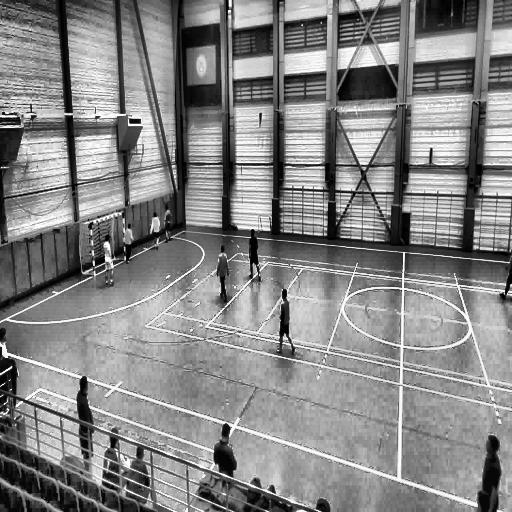player: (77, 377, 95, 475), (274, 285, 296, 354), (217, 244, 230, 304), (104, 234, 116, 284), (249, 229, 260, 281), (124, 224, 134, 264), (150, 213, 160, 250), (164, 204, 171, 242)
